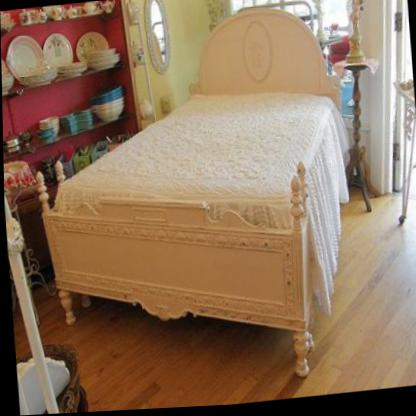Bed: (42, 10, 348, 364)
Wooden floor: (305, 173, 416, 399)
